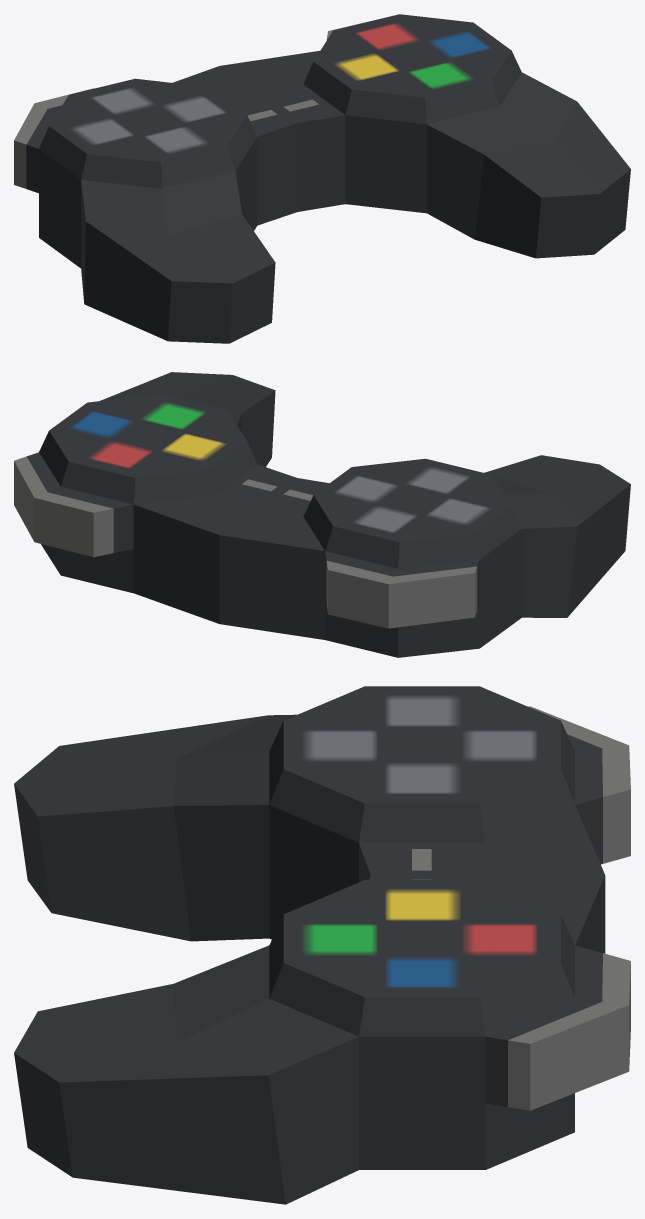
File: SM_Prop_Game_Controller_01.fbx
3 views of the same model, one above another, from view 1: azimuth 30°, elevation 25°; view 2: azimuth 150°, elevation 25°; view 3: azimuth 270°, elevation 25° (orthographic). The views are drawn at different scales.
Visible parts, largest first — view 1: SM_Prop_Game_Controller_01; view 2: SM_Prop_Game_Controller_01; view 3: SM_Prop_Game_Controller_01.
Part boxes in pixels (x1,y1,x2,y2): SM_Prop_Game_Controller_01: (14, 14, 630, 343); SM_Prop_Game_Controller_01: (14, 372, 630, 657); SM_Prop_Game_Controller_01: (14, 686, 630, 1204).
Bounding box in the file's own units: 28.33 × 7.02 × 20.52.
